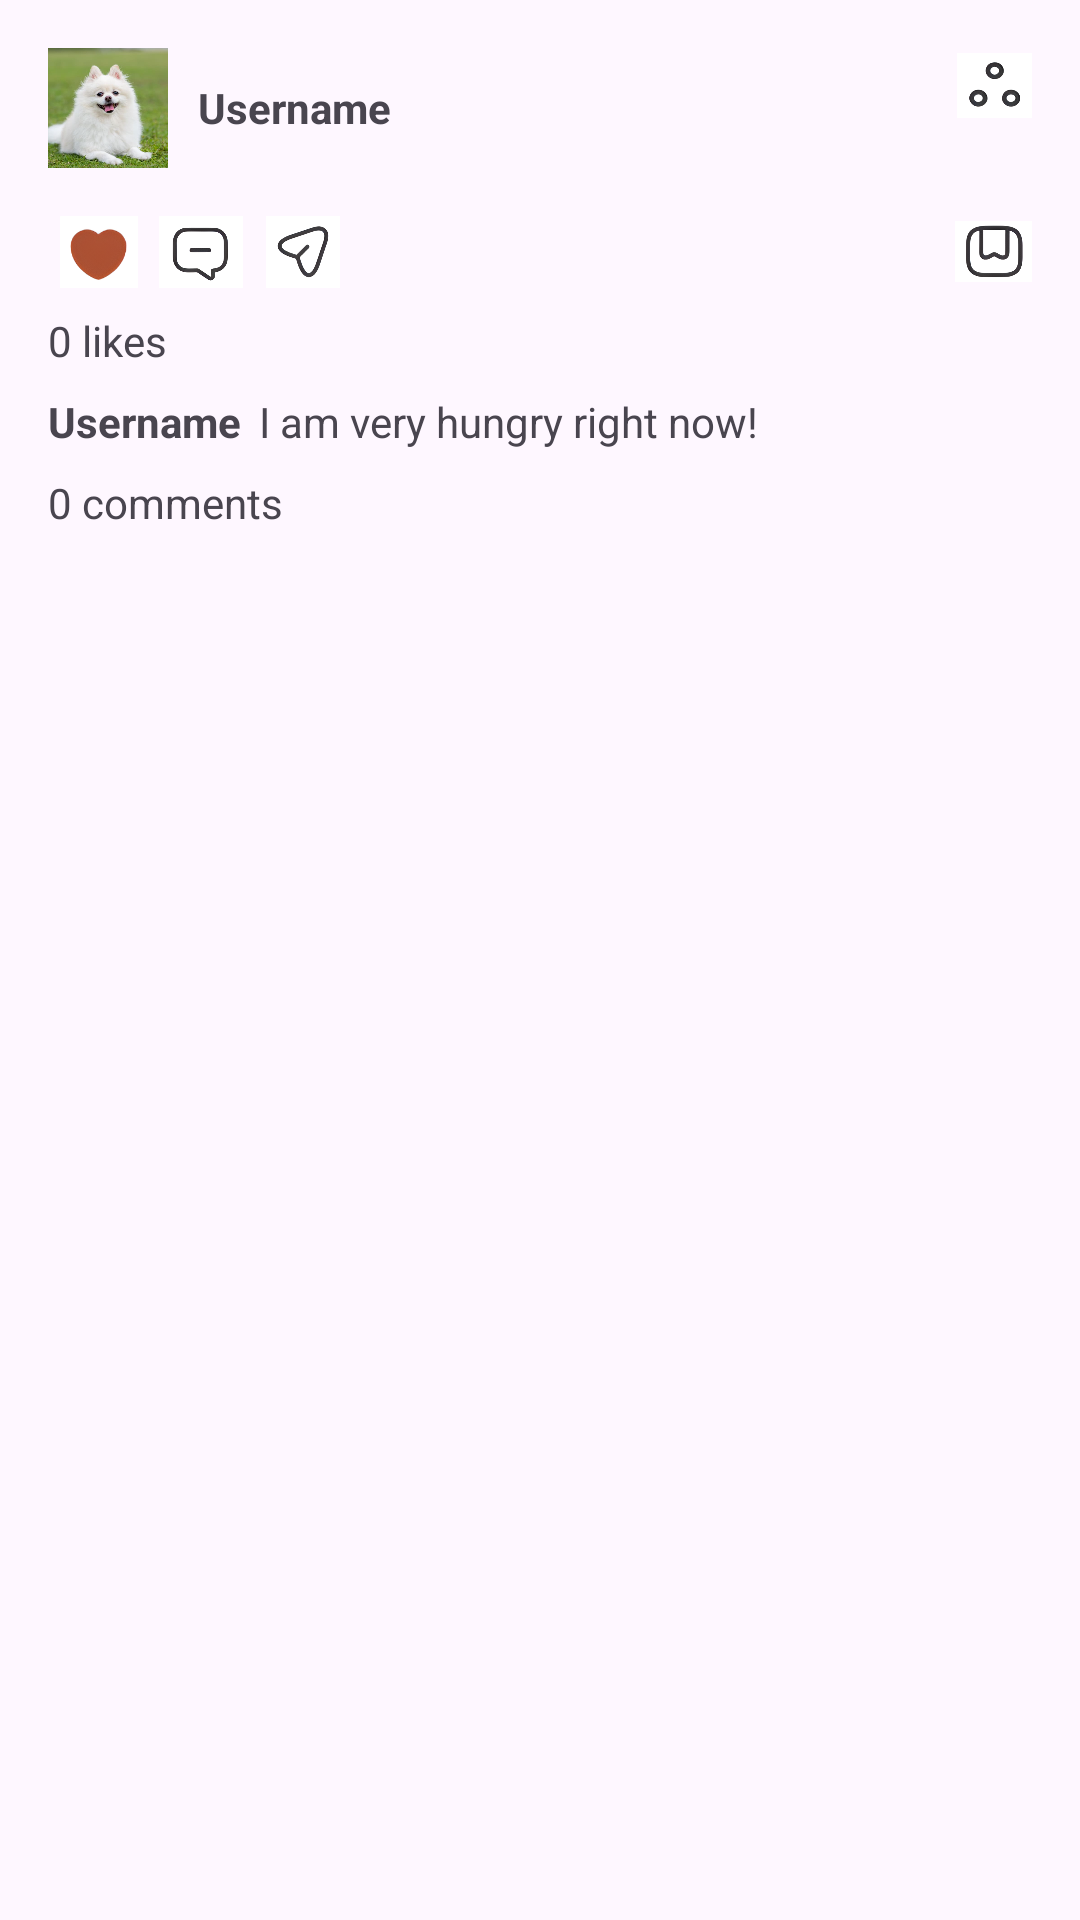

Icon bounding boxes for this 1080x1920 phone screenshot, format [x1,y1,x2,y2]:
comment: [173,228,228,281]
heart: [70,229,127,280]
menu: [969,62,1020,107]
save: [966,225,1023,277]
share: [277,226,328,277]
